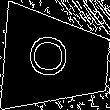O_E: (32, 36, 81, 84)
